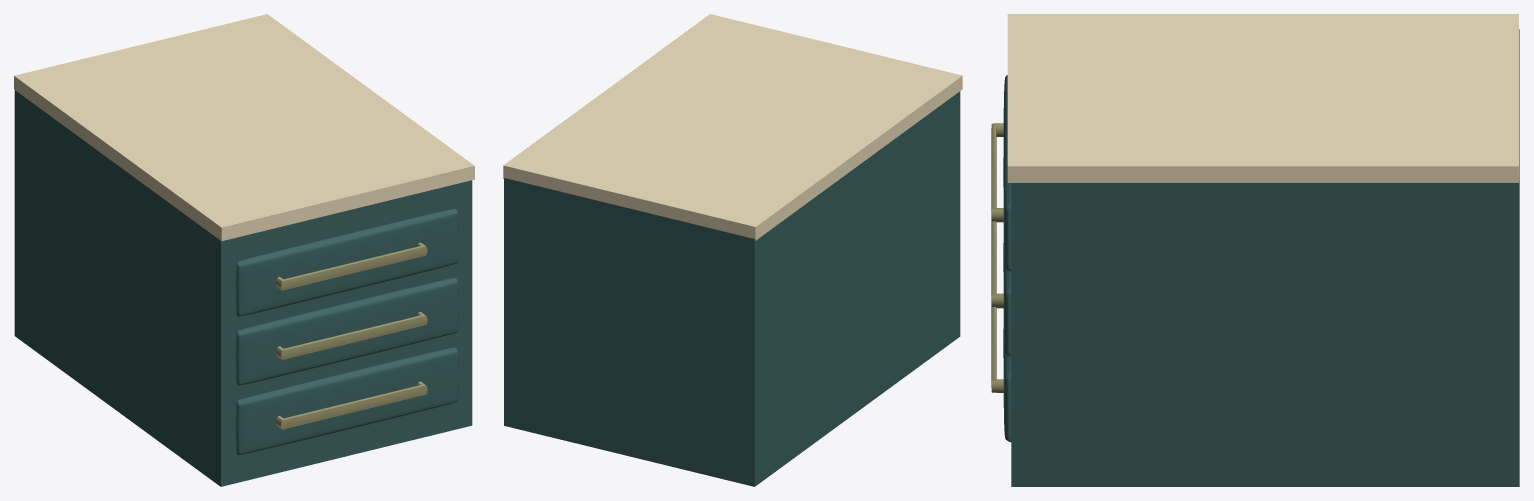
Rendered from mesa3.fbx.
The picture shows the model from 3 angles, left to right: view 1: azimuth 30°, elevation 25°; view 2: azimuth 150°, elevation 25°; view 3: azimuth 270°, elevation 25°; orthographic projection. The views are drawn at different scales.
Visible parts, largest first — view 1: mesa3; view 2: mesa3; view 3: mesa3.
Part boxes in pixels (x1,y1,x2,y2): mesa3: (14, 14, 474, 486); mesa3: (503, 14, 962, 486); mesa3: (991, 14, 1519, 486).
Bounding box in the file's own units: 142 × 140 × 208.
